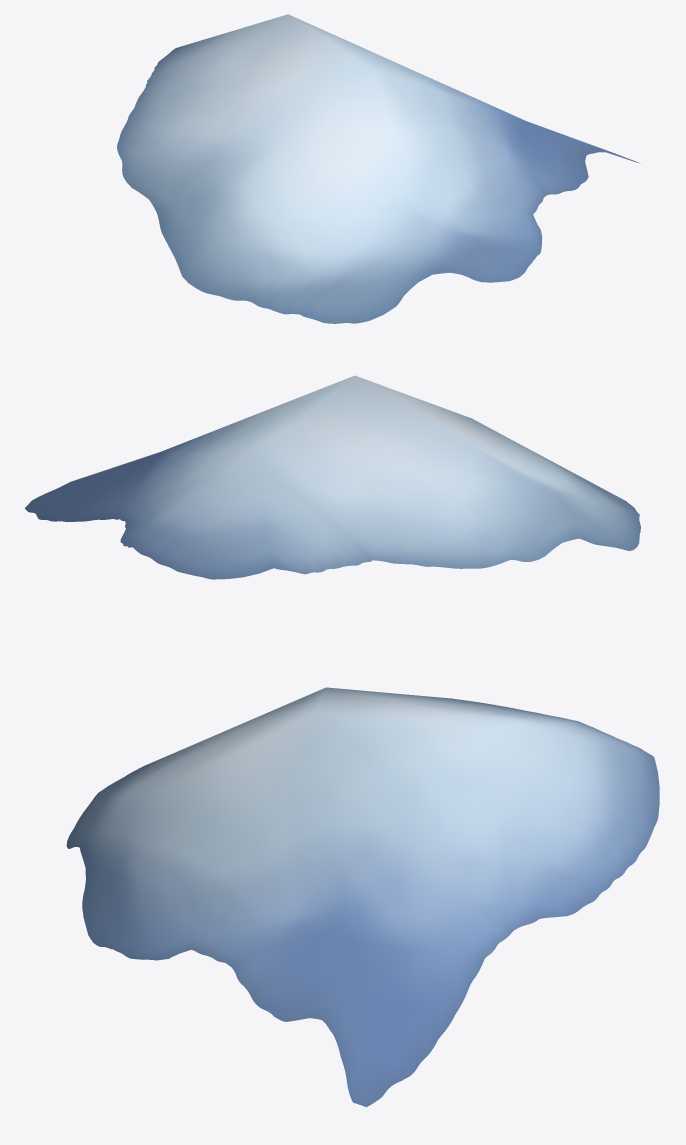
The model's file is JiXue03.FBX.
The picture shows the model from 3 angles, top to bottom: view 1: azimuth 30°, elevation 25°; view 2: azimuth 150°, elevation 25°; view 3: azimuth 270°, elevation 25°; orthographic projection. The views are drawn at different scales.
Visible parts, largest first — view 1: JiXue03; view 2: JiXue03; view 3: JiXue03.
Boxes of the visible parts, x1,y1,x2,y2 form: JiXue03: [117, 14, 640, 323]; JiXue03: [25, 375, 640, 579]; JiXue03: [66, 687, 659, 1107].
Size of the model in its own units: 45.15 by 14.07 by 36.75.
